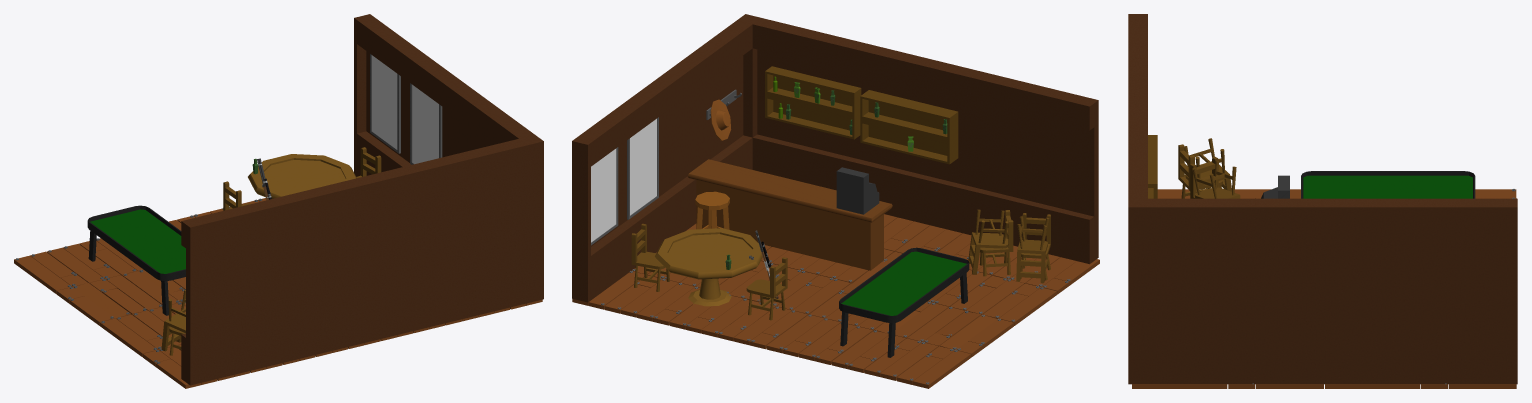
File: Saloon.fbx
3 renders of one model, left to right at view 1: azimuth 30°, elevation 25°; view 2: azimuth 150°, elevation 25°; view 3: azimuth 270°, elevation 25°, orthographic. The views are drawn at different scales.
Visible parts, largest first — view 1: Mesh_1, Mesh_0, Mesh_11, Mesh_18, Mesh_16, Mesh_22, Mesh_28; view 2: Mesh_1, Mesh_0, Mesh_7, Mesh_11, Mesh_5, Mesh_16, Mesh_18, Mesh_4, Mesh_28, Mesh_23, Mesh_22, Mesh_8 (+2 smaller); view 3: Mesh_1, Mesh_11, Mesh_0, Mesh_22, Mesh_23, Mesh_5, Mesh_8.
Part boxes in pixels (x1=…): Mesh_1: x1=181, y1=14, x2=543, y2=385; Mesh_0: x1=14, y1=198, x2=542, y2=388; Mesh_11: x1=87, y1=205, x2=185, y2=315; Mesh_18: x1=370, y1=54, x2=442, y2=164; Mesh_16: x1=248, y1=154, x2=356, y2=198; Mesh_22: x1=161, y1=290, x2=185, y2=355; Mesh_28: x1=223, y1=147, x2=381, y2=210; Mesh_1: x1=572, y1=14, x2=1098, y2=302; Mesh_0: x1=572, y1=214, x2=1099, y2=388; Mesh_7: x1=687, y1=159, x2=892, y2=270; Mesh_11: x1=839, y1=247, x2=969, y2=357; Mesh_5: x1=860, y1=90, x2=958, y2=164; Mesh_16: x1=655, y1=228, x2=762, y2=306; Mesh_18: x1=591, y1=117, x2=658, y2=245; Mesh_4: x1=765, y1=66, x2=861, y2=139; Mesh_28: x1=631, y1=223, x2=787, y2=320; Mesh_23: x1=968, y1=209, x2=1013, y2=276; Mesh_22: x1=1016, y1=213, x2=1050, y2=283; Mesh_8: x1=836, y1=167, x2=879, y2=214; Mesh_1: x1=1128, y1=14, x2=1517, y2=384; Mesh_11: x1=1301, y1=171, x2=1475, y2=198; Mesh_0: x1=1132, y1=189, x2=1516, y2=388; Mesh_22: x1=1178, y1=138, x2=1231, y2=198; Mesh_23: x1=1190, y1=156, x2=1240, y2=198; Mesh_5: x1=1148, y1=135, x2=1157, y2=198; Mesh_8: x1=1261, y1=175, x2=1289, y2=198.
Bounding box in the file's own units: 62877 × 27359 × 53026.
21 materials, 21 textured.
